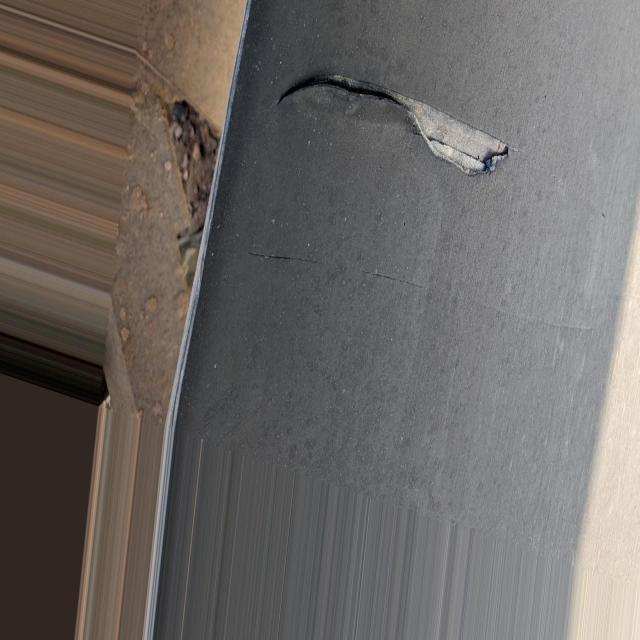Tear: (267, 65, 514, 181)
